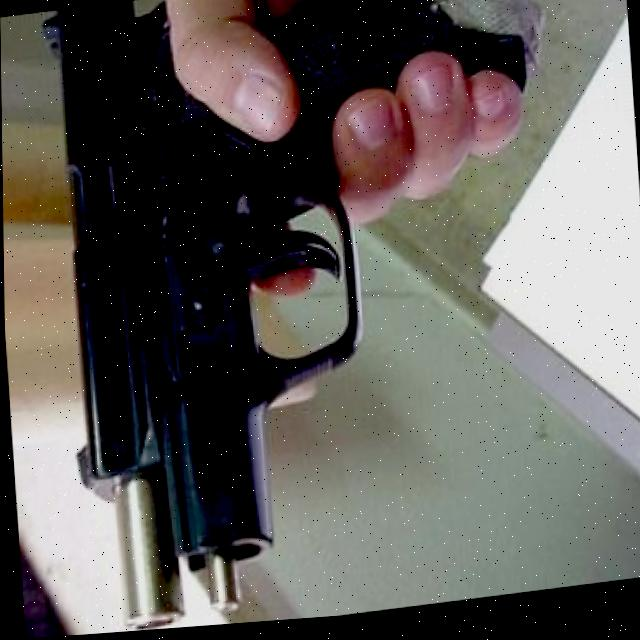pistol: (41, 0, 574, 638)
